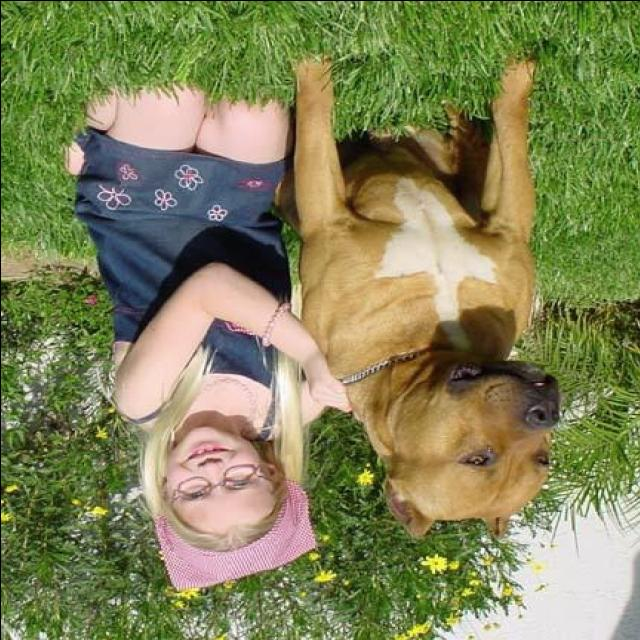staffordshire_bullterrier: (286, 51, 562, 544)
